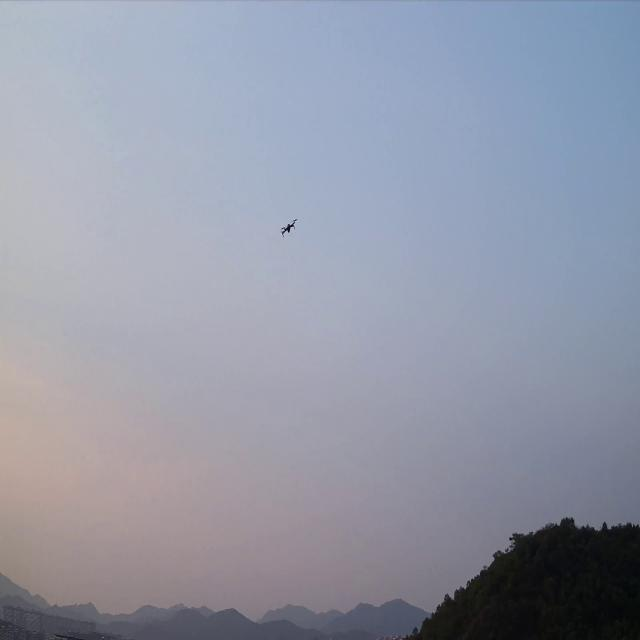UAV: (280, 216, 298, 238)
